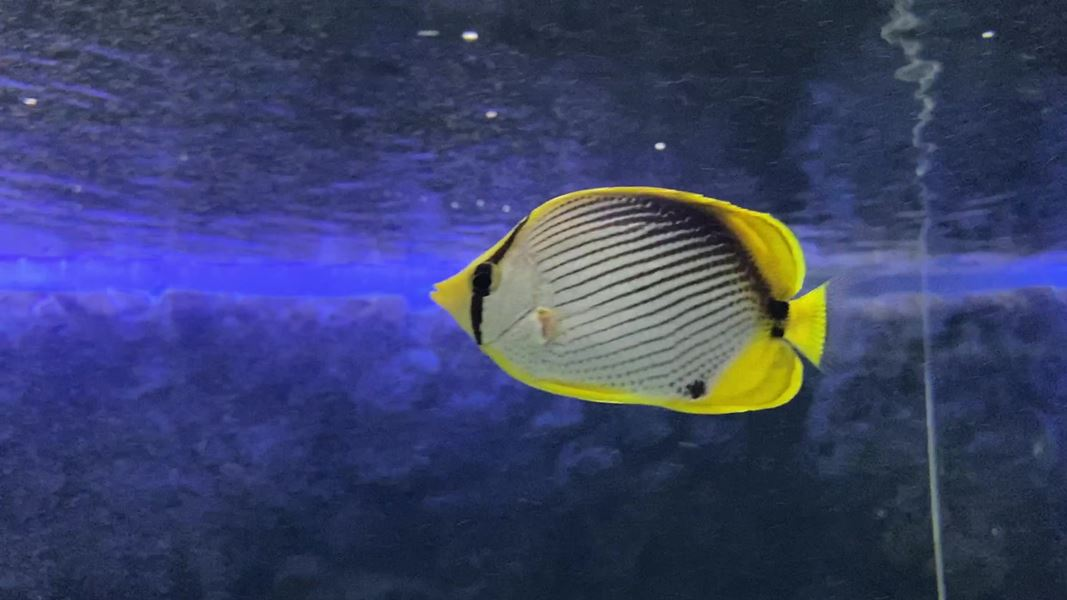Black-backed butterflyfish: (417, 170, 874, 429)
